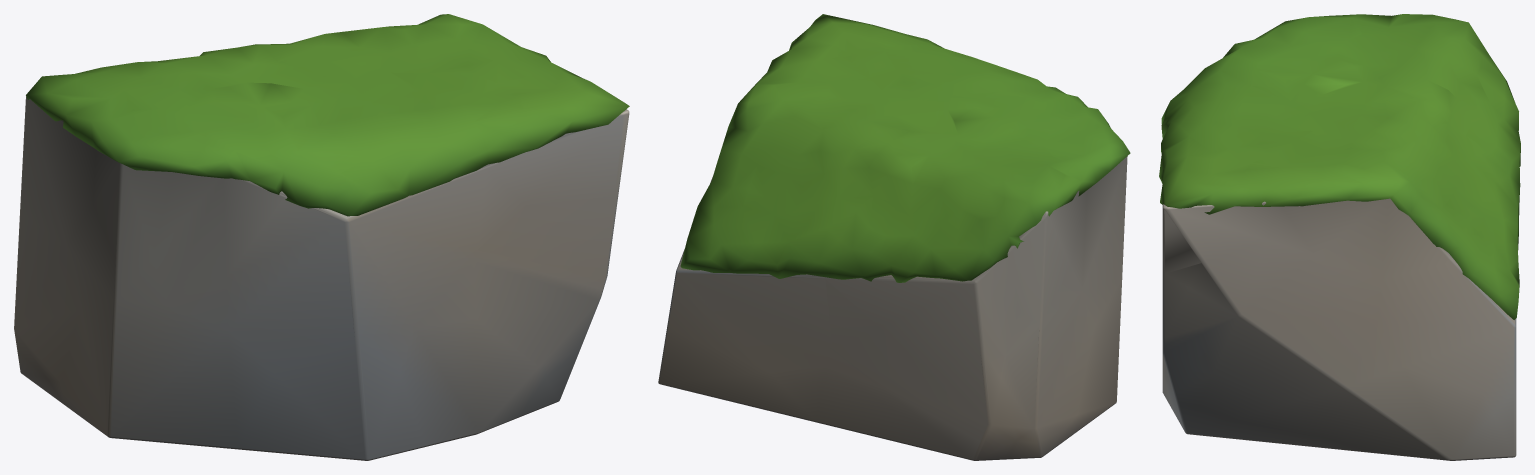
File: grotto_rock_a.glb
3 views of the same model, side by side, from view 1: azimuth 30°, elevation 25°; view 2: azimuth 150°, elevation 25°; view 3: azimuth 270°, elevation 25° (orthographic). The views are drawn at different scales.
Parts seen in each view (by area): view 1: grotto_rock_a, moss; view 2: moss, grotto_rock_a; view 3: grotto_rock_a, moss.
Boxes of the visible parts, x1,y1,x2,y2 form: grotto_rock_a: (14, 96, 629, 460); moss: (26, 14, 629, 216); moss: (680, 14, 1130, 282); grotto_rock_a: (658, 156, 1127, 460); grotto_rock_a: (1162, 198, 1516, 460); moss: (1159, 14, 1520, 319).
Size of the model in its own units: 3.58 by 2.32 by 2.86.
